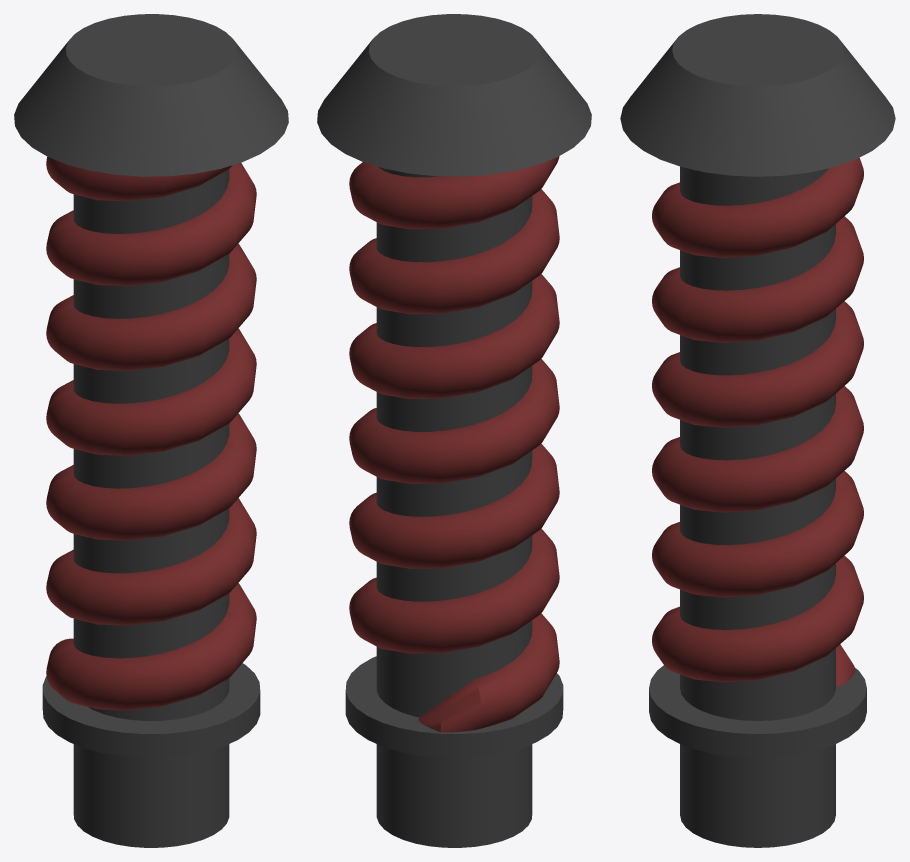
File: Spring.fbx
The picture shows the model from 3 angles, left to right: view 1: azimuth 30°, elevation 25°; view 2: azimuth 150°, elevation 25°; view 3: azimuth 270°, elevation 25°; orthographic projection.
Visible parts, largest first — view 1: Muelle; view 2: Muelle; view 3: Muelle.
Part boxes in pixels (<box>): Muelle: <box>14,14,288,847</box>; Muelle: <box>317,14,591,847</box>; Muelle: <box>620,14,895,847</box>.
Bounding box in the file's own units: 38.07 × 117 × 38.07.
